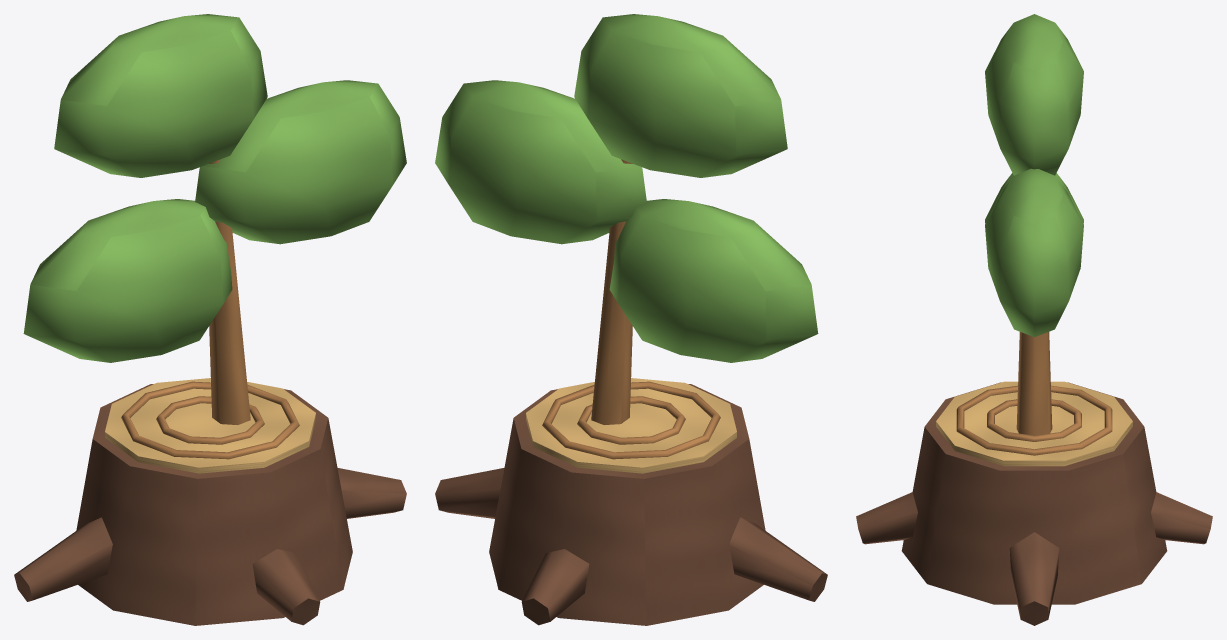
The model's file is tree-regrowth.glb.
The picture shows the model from 3 angles, left to right: view 1: azimuth 30°, elevation 25°; view 2: azimuth 150°, elevation 25°; view 3: azimuth 270°, elevation 25°; orthographic projection. The views are drawn at different scales.
Visible parts, largest first — view 1: tree-regrowth-mesh; view 2: tree-regrowth-mesh; view 3: tree-regrowth-mesh.
Part boxes in pixels (x1,y1,x2,y2): tree-regrowth-mesh: [14, 14, 406, 625]; tree-regrowth-mesh: [435, 14, 827, 625]; tree-regrowth-mesh: [856, 14, 1212, 625].
Bounding box in the file's own units: 0.8905 × 1.22 × 0.7795.
1 material, 1 textured.
